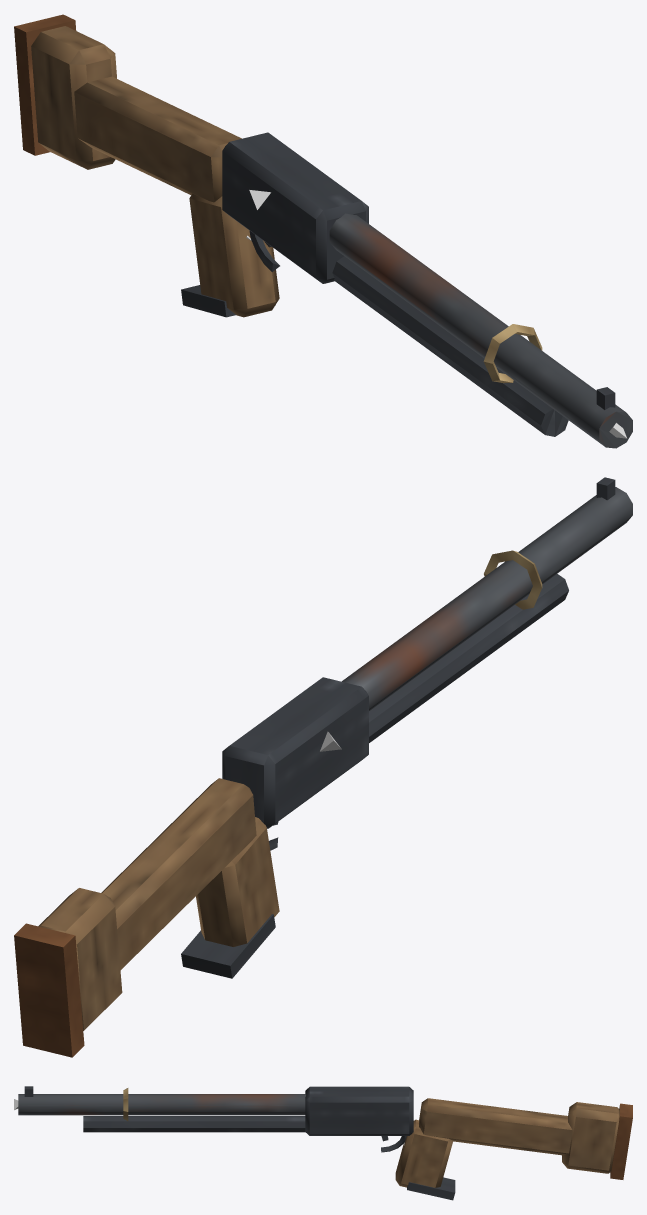
The model's file is SM_Shotgun.fbx.
3 renders of one model, top to bottom at view 1: azimuth 30°, elevation 25°; view 2: azimuth 150°, elevation 25°; view 3: azimuth 270°, elevation 25°, orthographic. The views are drawn at different scales.
Visible parts, largest first — view 1: SM_Shotgun; view 2: SM_Shotgun; view 3: SM_Shotgun.
Boxes of the visible parts, x1,y1,x2,y2 form: SM_Shotgun: (14, 14, 632, 448); SM_Shotgun: (14, 477, 632, 1057); SM_Shotgun: (18, 1086, 632, 1200).
Bounding box in the file's own units: 0.406 × 1.08 × 5.71.
Materials: 1 (1 with a texture image).
